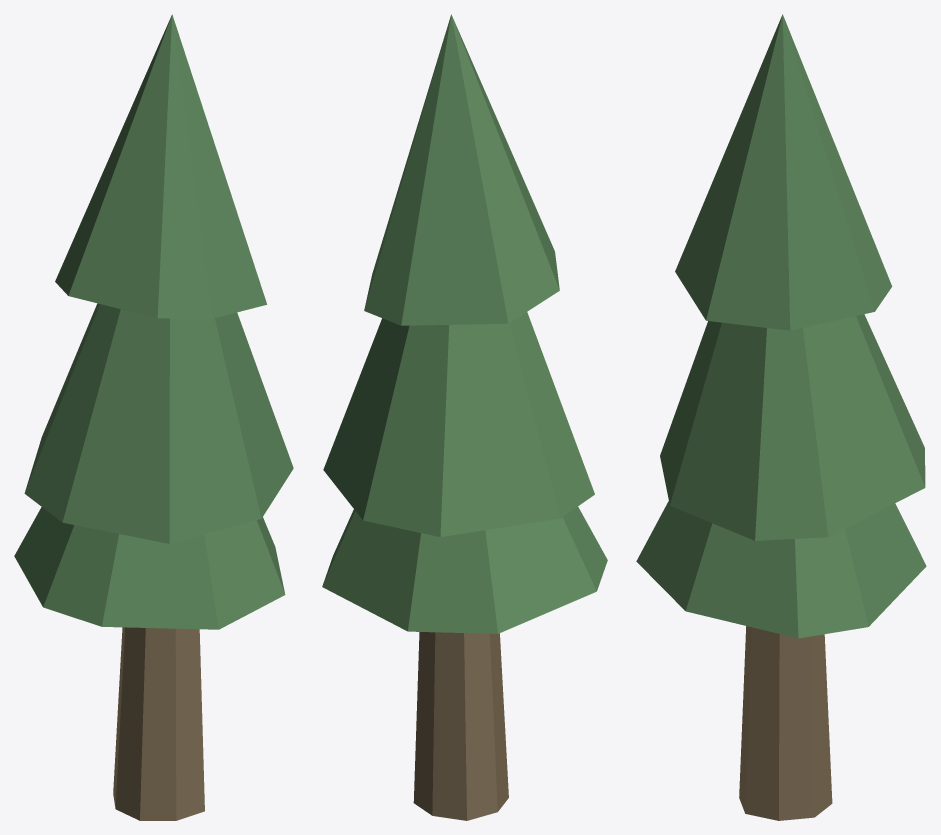
The model's file is Tree2.028.fbx.
3 views of the same model, side by side, from view 1: azimuth 30°, elevation 25°; view 2: azimuth 150°, elevation 25°; view 3: azimuth 270°, elevation 25° (orthographic).
Parts seen in each view (by area): view 1: Tree2.028; view 2: Tree2.028; view 3: Tree2.028.
Boxes of the visible parts, x1,y1,x2,y2 form: Tree2.028: (14, 14, 293, 820); Tree2.028: (322, 14, 607, 820); Tree2.028: (636, 14, 926, 820).
Bounding box in the file's own units: 124 × 374 × 124.
